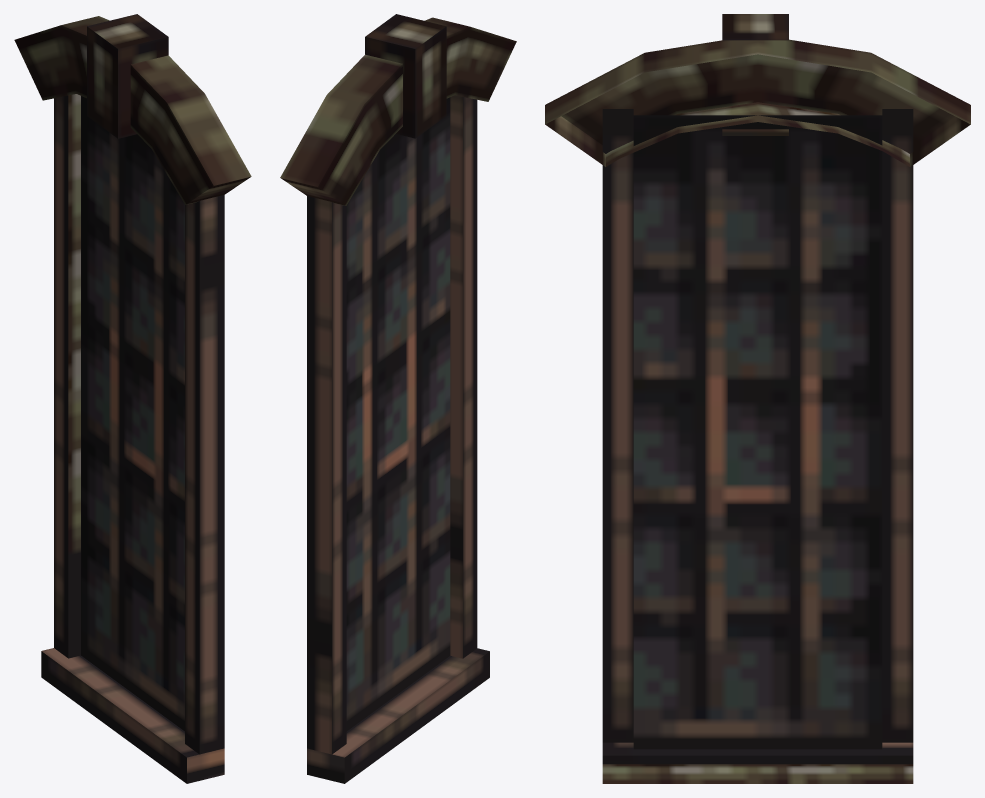
File: EnvBdgMD_Factory_B_Outdoor_Window_B.FBX
The picture shows the model from 3 angles, left to right: view 1: azimuth 30°, elevation 25°; view 2: azimuth 150°, elevation 25°; view 3: azimuth 270°, elevation 25°; orthographic projection. The views are drawn at different scales.
Visible parts, largest first — view 1: EnvBdgMD_Factory_B_Outdoor_Window_B; view 2: EnvBdgMD_Factory_B_Outdoor_Window_B; view 3: EnvBdgMD_Factory_B_Outdoor_Window_B.
Boxes of the visible parts, x1,y1,x2,y2 form: EnvBdgMD_Factory_B_Outdoor_Window_B: (14,14,251,783); EnvBdgMD_Factory_B_Outdoor_Window_B: (280,14,516,783); EnvBdgMD_Factory_B_Outdoor_Window_B: (545,14,970,783).
Size of the model in its own units: 20 by 264 by 137.
